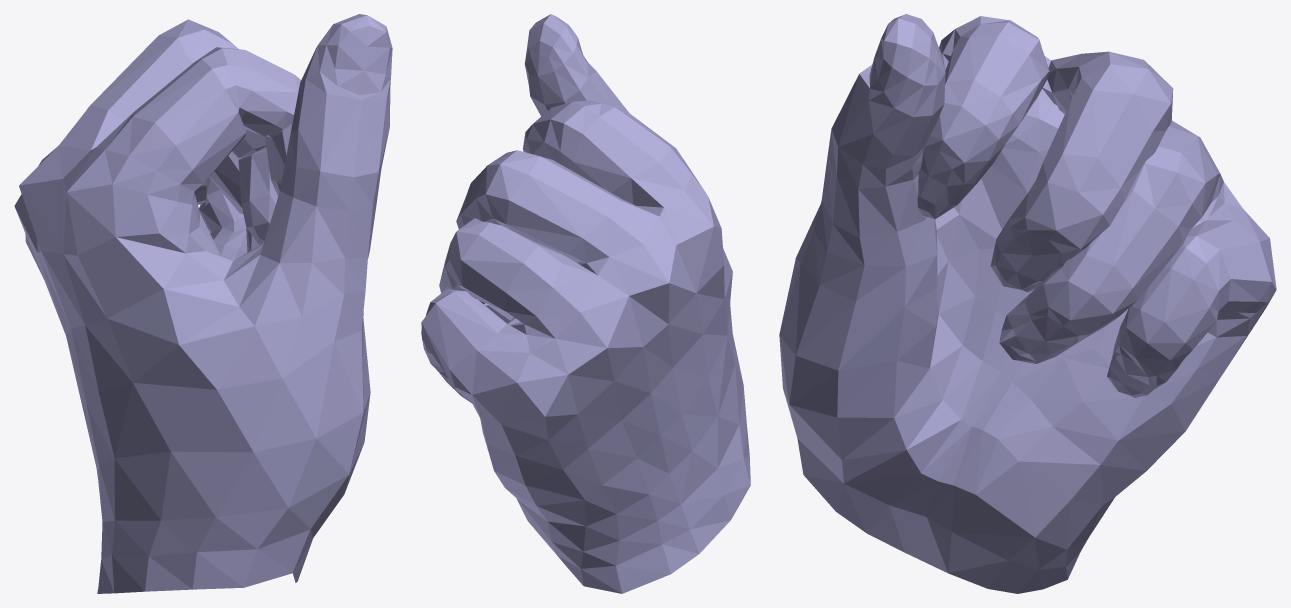
Rendered from frame_0044_source_000044_hand.glb.
3 views of the same model, side by side, from view 1: azimuth 30°, elevation 25°; view 2: azimuth 150°, elevation 25°; view 3: azimuth 270°, elevation 25° (orthographic). The views are drawn at different scales.
Visible parts, largest first — view 1: world; view 2: world; view 3: world.
Boxes of the visible parts, left/top/right/bottom form: world: left=14, top=14, right=392, bottom=593; world: left=421, top=14, right=750, bottom=593; world: left=779, top=14, right=1276, bottom=593.
Bounding box in the file's own units: 0.0619 × 0.1254 × 0.0908.
